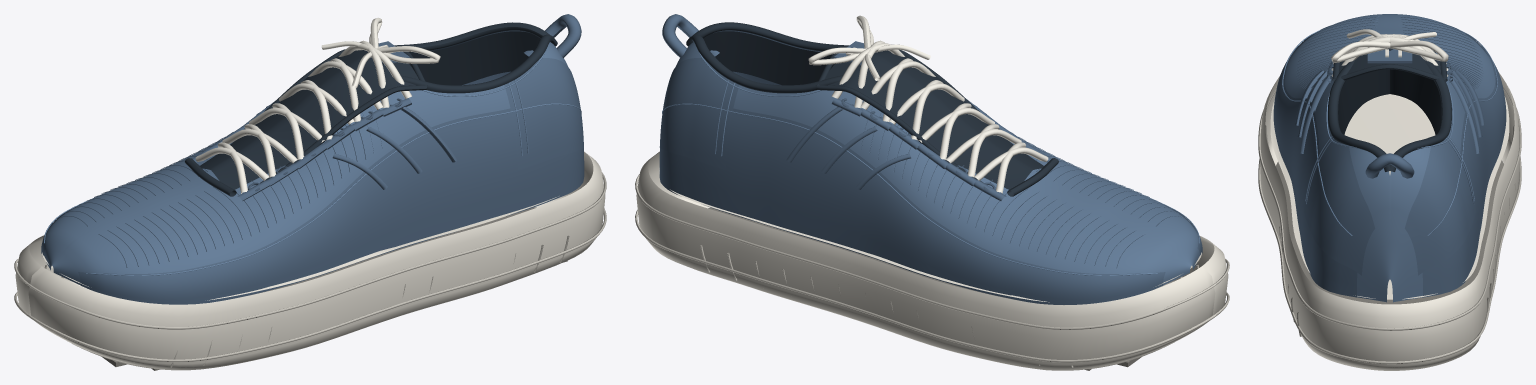
File: shoe.glb
The picture shows the model from 3 angles, left to right: view 1: azimuth 30°, elevation 25°; view 2: azimuth 150°, elevation 25°; view 3: azimuth 270°, elevation 25°; orthographic projection. The views are drawn at different scales.
Parts seen in each view (by area): view 1: body_suede, sole_foam, body_knit, tongue_padded, lace_woven, sole_grooves, tongue_lining, body_trim, body_stitch, sole_rubber; view 2: body_suede, sole_foam, body_knit, tongue_padded, lace_woven, sole_grooves, tongue_lining, body_trim, body_stitch, sole_rubber; view 3: body_suede, sole_foam, body_knit, tongue_padded, sole_grooves, tongue_lining, body_trim, lace_woven, sole_rubber, body_stitch.
Boxes of the visible parts, x1=… form: body_suede: x1=41, y1=14, x2=584, y2=304; sole_foam: x1=15, y1=151, x2=605, y2=369; body_knit: x1=43, y1=30, x2=567, y2=285; tongue_padded: x1=185, y1=22, x2=557, y2=196; lace_woven: x1=195, y1=17, x2=440, y2=193; sole_grooves: x1=14, y1=172, x2=606, y2=367; tongue_lining: x1=409, y1=31, x2=540, y2=85; body_trim: x1=59, y1=80, x2=528, y2=267; body_stitch: x1=44, y1=49, x2=581, y2=275; sole_rubber: x1=72, y1=207, x2=567, y2=370; body_suede: x1=659, y1=14, x2=1202, y2=304; sole_foam: x1=636, y1=151, x2=1228, y2=370; body_knit: x1=676, y1=30, x2=1199, y2=285; tongue_padded: x1=686, y1=22, x2=1058, y2=196; lace_woven: x1=808, y1=15, x2=1048, y2=193; sole_grooves: x1=635, y1=174, x2=1229, y2=367; tongue_lining: x1=703, y1=31, x2=834, y2=85; body_trim: x1=715, y1=79, x2=1184, y2=268; body_stitch: x1=662, y1=40, x2=1199, y2=275; sole_rubber: x1=708, y1=207, x2=1174, y2=370; body_suede: x1=1273, y1=33, x2=1506, y2=297; sole_foam: x1=1260, y1=71, x2=1519, y2=370; body_knit: x1=1284, y1=14, x2=1495, y2=302; tongue_padded: x1=1328, y1=48, x2=1451, y2=171; sole_grooves: x1=1258, y1=87, x2=1521, y2=364; tongue_lining: x1=1338, y1=69, x2=1441, y2=134; body_trim: x1=1296, y1=16, x2=1483, y2=204; lace_woven: x1=1331, y1=29, x2=1448, y2=76; sole_rubber: x1=1276, y1=160, x2=1503, y2=304; body_stitch: x1=1282, y1=30, x2=1497, y2=235.
Size of the model in its own units: 3.48 by 1.4 by 1.36.
